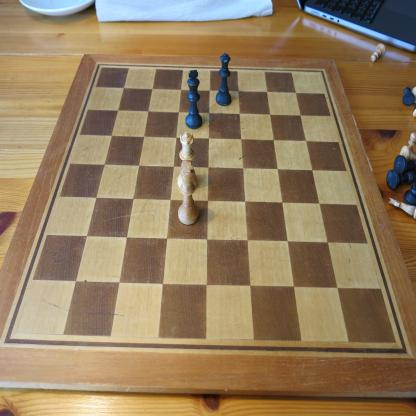black-king: (186, 70, 202, 130)
black-queen: (215, 52, 232, 107)
white-king: (177, 160, 200, 226)
white-pawn: (370, 42, 387, 62)
white-queen: (177, 132, 198, 193)
